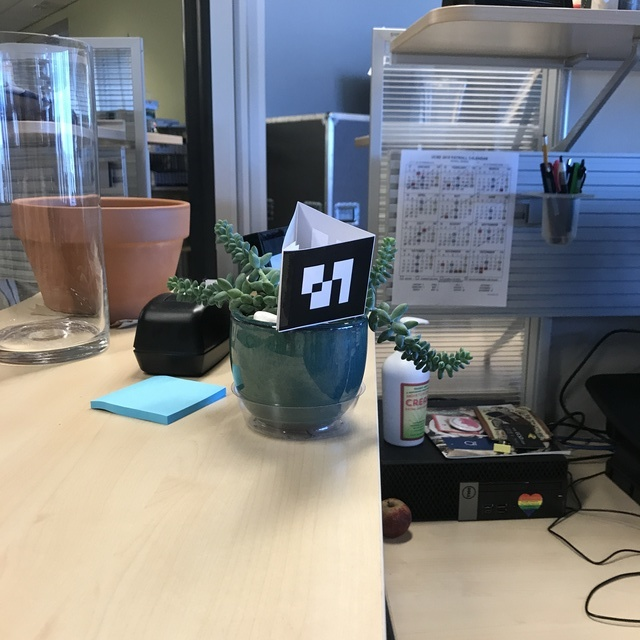ARTag: (277, 202, 374, 331)
